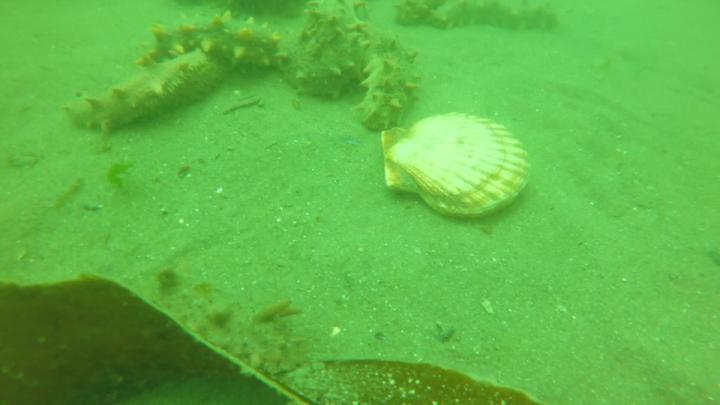holothurian: (67, 50, 225, 140), (136, 15, 284, 78), (285, 1, 373, 98), (350, 25, 424, 135), (394, 1, 564, 39)
scallop: (382, 107, 533, 226)
